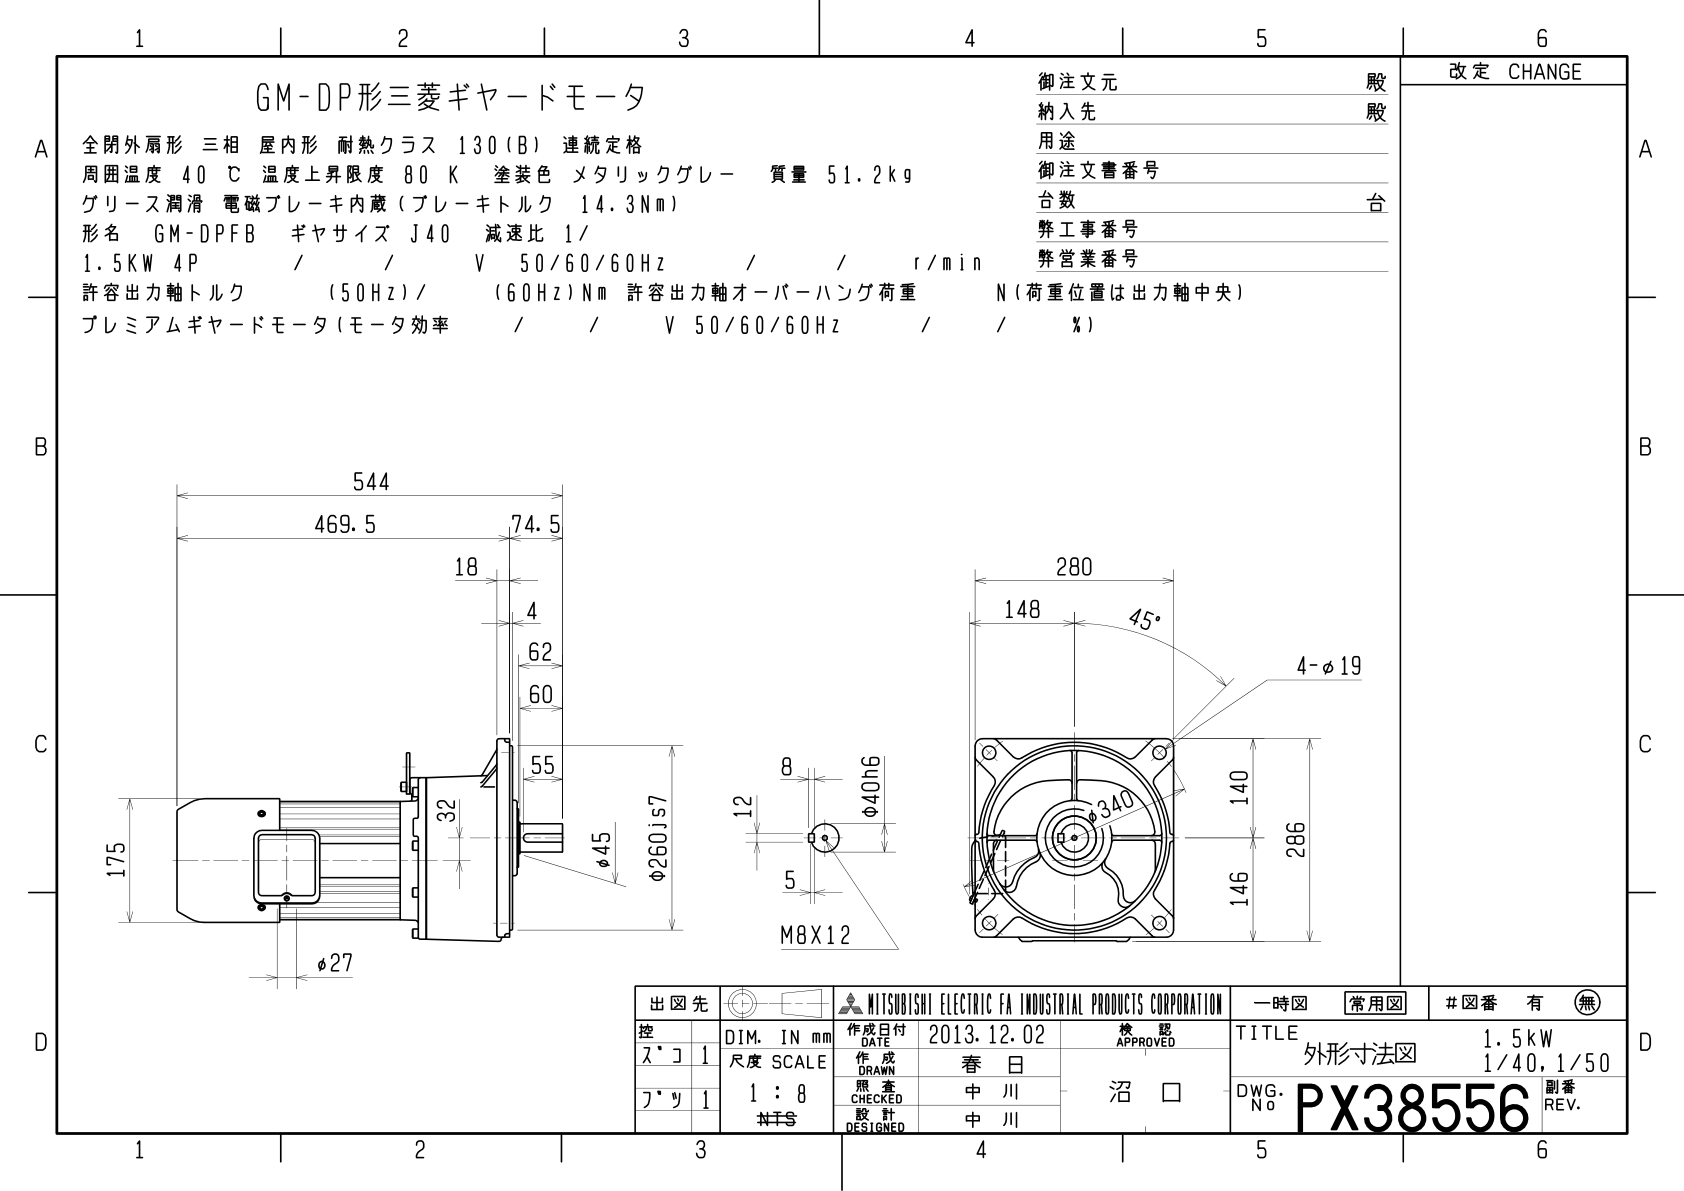GM_DP_屋内_三相_フランジ: (13, 8, 1684, 1191)
